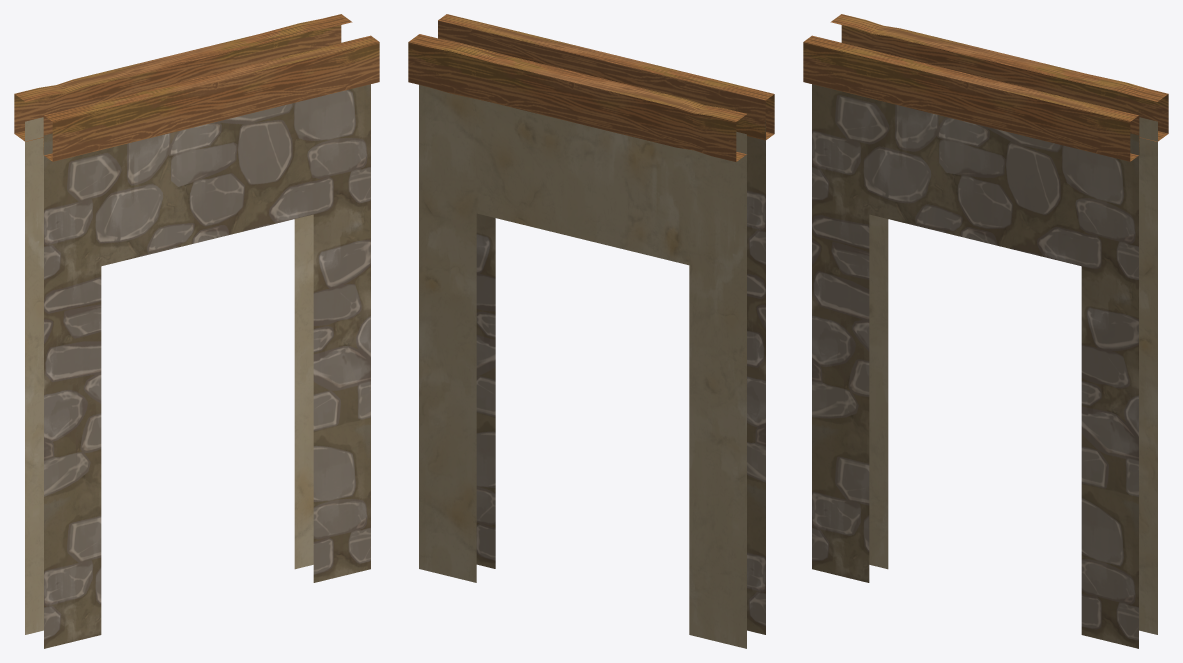
File: Wall_UnevenBrick_Door_Flat.obj
3 views of the same model, side by side, from view 1: azimuth 30°, elevation 25°; view 2: azimuth 150°, elevation 25°; view 3: azimuth 330°, elevation 25° (orthographic).
Visible parts, largest first — view 1: Wall_UnevenBrick_Door_Flat; view 2: Wall_UnevenBrick_Door_Flat; view 3: Wall_UnevenBrick_Door_Flat.
Part boxes in pixels (left/top/right/bottom): Wall_UnevenBrick_Door_Flat: left=14, top=14, right=379, bottom=648; Wall_UnevenBrick_Door_Flat: left=408, top=14, right=774, bottom=648; Wall_UnevenBrick_Door_Flat: left=803, top=14, right=1168, bottom=648.
Bounding box in the file's own units: 2 × 3.12 × 0.4065.
